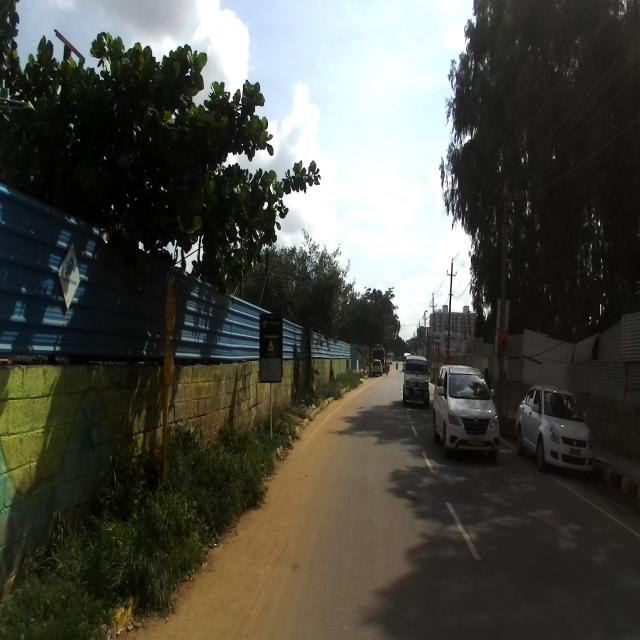car: (515, 382, 596, 481), (432, 364, 500, 464)
